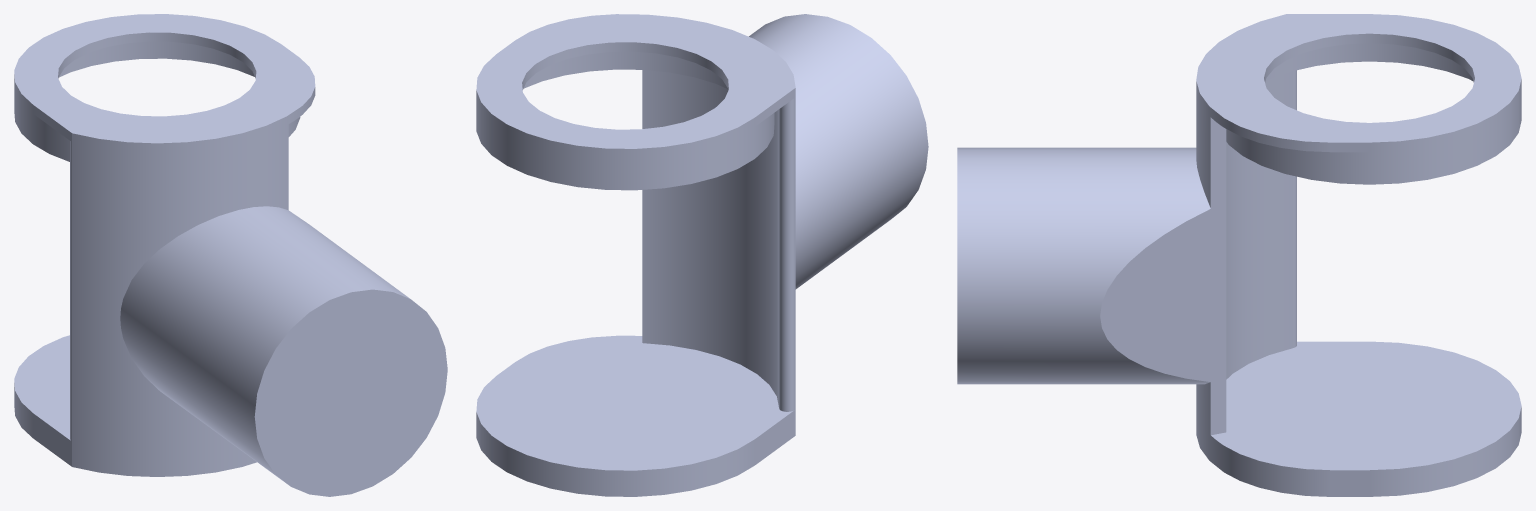
The picture shows the model from 3 angles, left to right: view 1: azimuth 30°, elevation 25°; view 2: azimuth 150°, elevation 25°; view 3: azimuth 270°, elevation 25°; orthographic projection. The views are drawn at different scales.
Visible parts, largest first — view 1: FBXASC060LINK4BFBXASC062-FBXASC060FBXASC195FBXASC148FBXASC19; view 2: FBXASC060LINK4BFBXASC062-FBXASC060FBXASC195FBXASC148FBXASC19; view 3: FBXASC060LINK4BFBXASC062-FBXASC060FBXASC195FBXASC148FBXASC19.
Part boxes in pixels (<box>): FBXASC060LINK4BFBXASC062-FBXASC060FBXASC195FBXASC148FBXASC19: <box>14,14,447,496</box>; FBXASC060LINK4BFBXASC062-FBXASC060FBXASC195FBXASC148FBXASC19: <box>476,14,928,496</box>; FBXASC060LINK4BFBXASC062-FBXASC060FBXASC195FBXASC148FBXASC19: <box>957,14,1521,496</box>.
Size of the model in its own units: 0.072 by 0.1335 by 0.0925.
